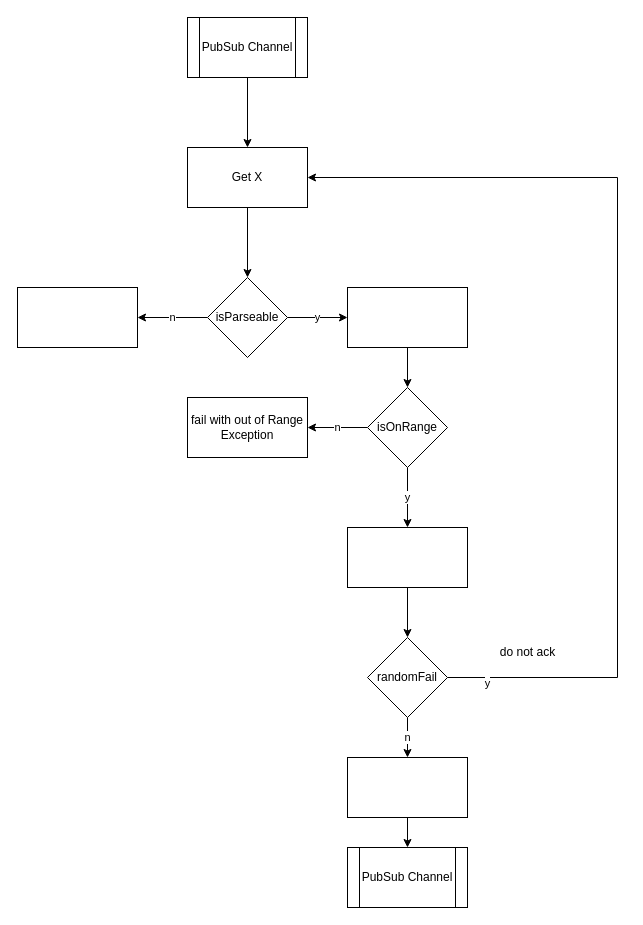
This 643x925 diagram has some shape labels left out. The box of each missing label's shape, as (x1, y1, x2, y2) in pixels:
fail With Parse Exception: (16, 286, 138, 348)
parse: (346, 286, 468, 348)
publish: (346, 756, 468, 818)
Transform: (346, 526, 468, 588)
